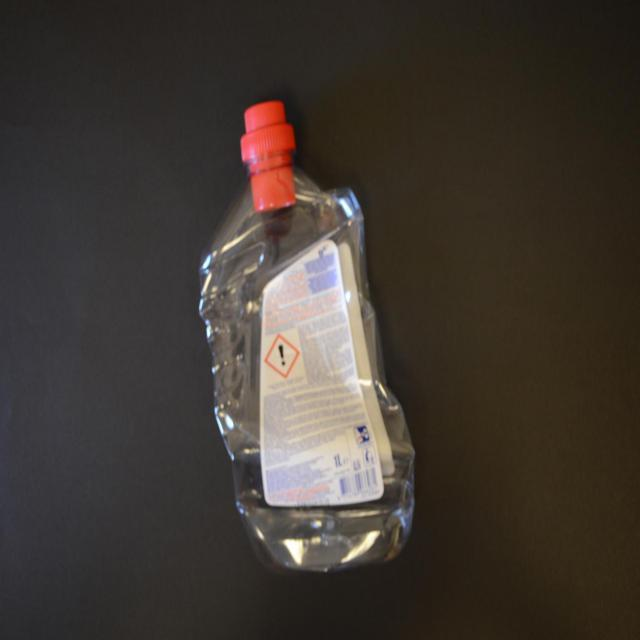plastic_bottle: (200, 100, 416, 573)
